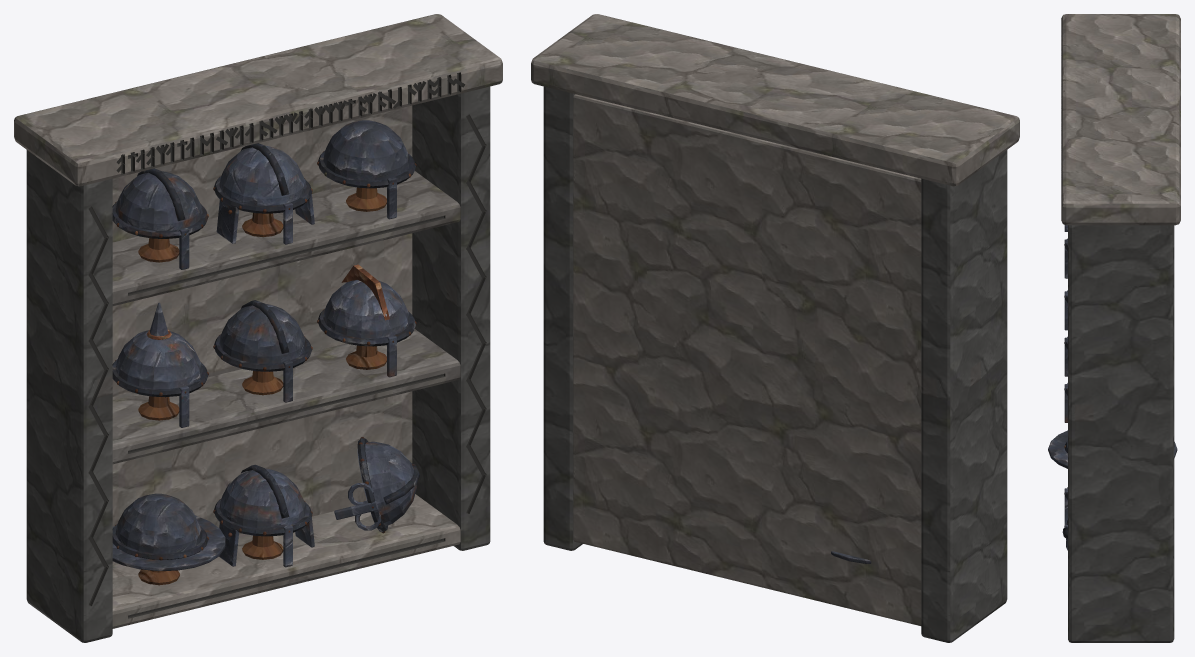
Rendered from hs_helm_shelf.glb.
The picture shows the model from 3 angles, left to right: view 1: azimuth 30°, elevation 25°; view 2: azimuth 150°, elevation 25°; view 3: azimuth 270°, elevation 25°; orthographic projection. The views are drawn at different scales.
Parts seen in each view (by area): view 1: model; view 2: model; view 3: model.
Boxes of the visible parts, x1,y1,x2,y2 form: model: (14,14,502,642); model: (531,14,1019,642); model: (1048,14,1180,642).
Bounding box in the file's own units: 1.36 × 1.48 × 0.3994.
10 materials, 9 textured.
